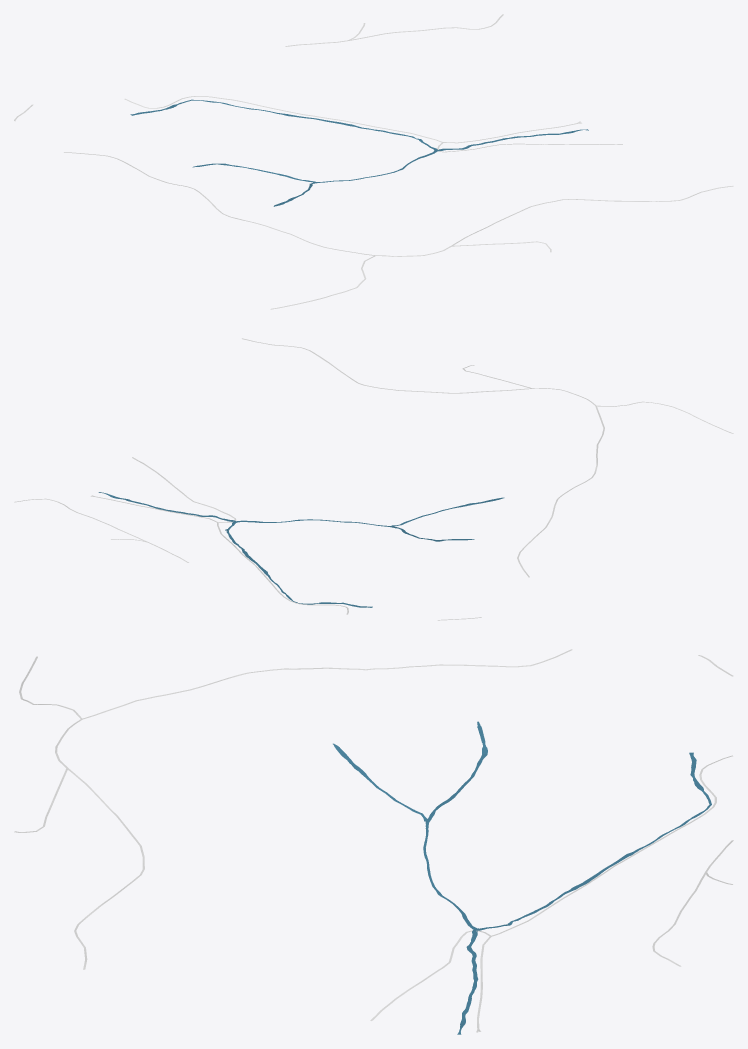
File: objekty.glb
3 renders of one model, top to bottom at view 1: azimuth 30°, elevation 25°; view 2: azimuth 150°, elevation 25°; view 3: azimuth 270°, elevation 25°, orthographic. The views are drawn at different scales.
Visible parts, largest first — view 1: Cesty_07_05, Voda_07_05; view 2: Cesty_07_05, Voda_07_05; view 3: Cesty_07_05, Voda_07_05.
Boxes of the visible parts, bbox=[...] form: Cesty_07_05: bbox=[14, 14, 733, 309]; Voda_07_05: bbox=[130, 99, 588, 206]; Cesty_07_05: bbox=[14, 338, 733, 620]; Voda_07_05: bbox=[98, 492, 504, 607]; Cesty_07_05: bbox=[14, 649, 733, 1032]; Voda_07_05: bbox=[333, 721, 711, 1034].
Bounding box in the file's own units: 1005 × 145 × 1004.
